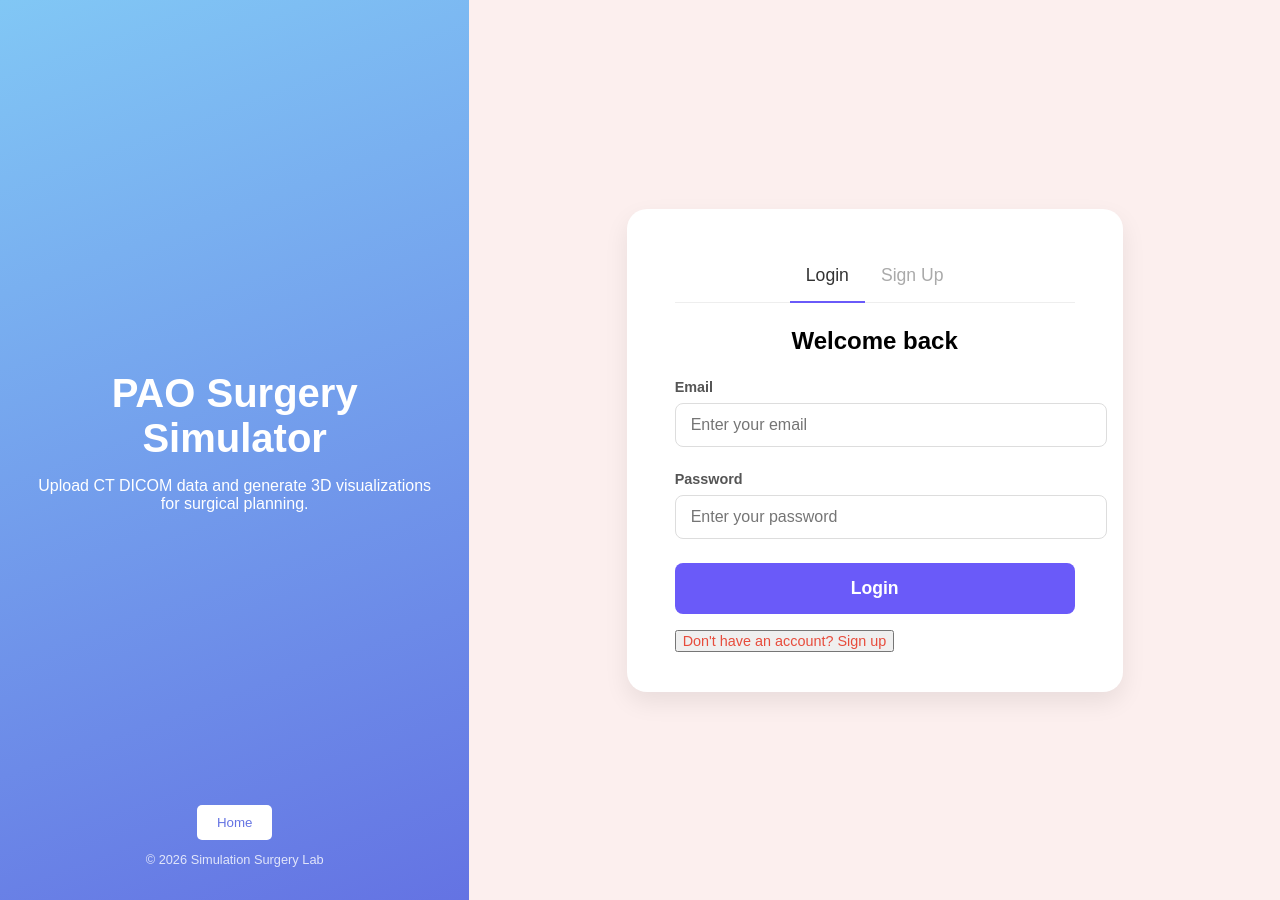
Scenario: resend failure shows controlled message
Step 1. Type "unverified@example.com" into the field with placeholder "Enter your email" → (891, 424), box [675,402,1107,446]
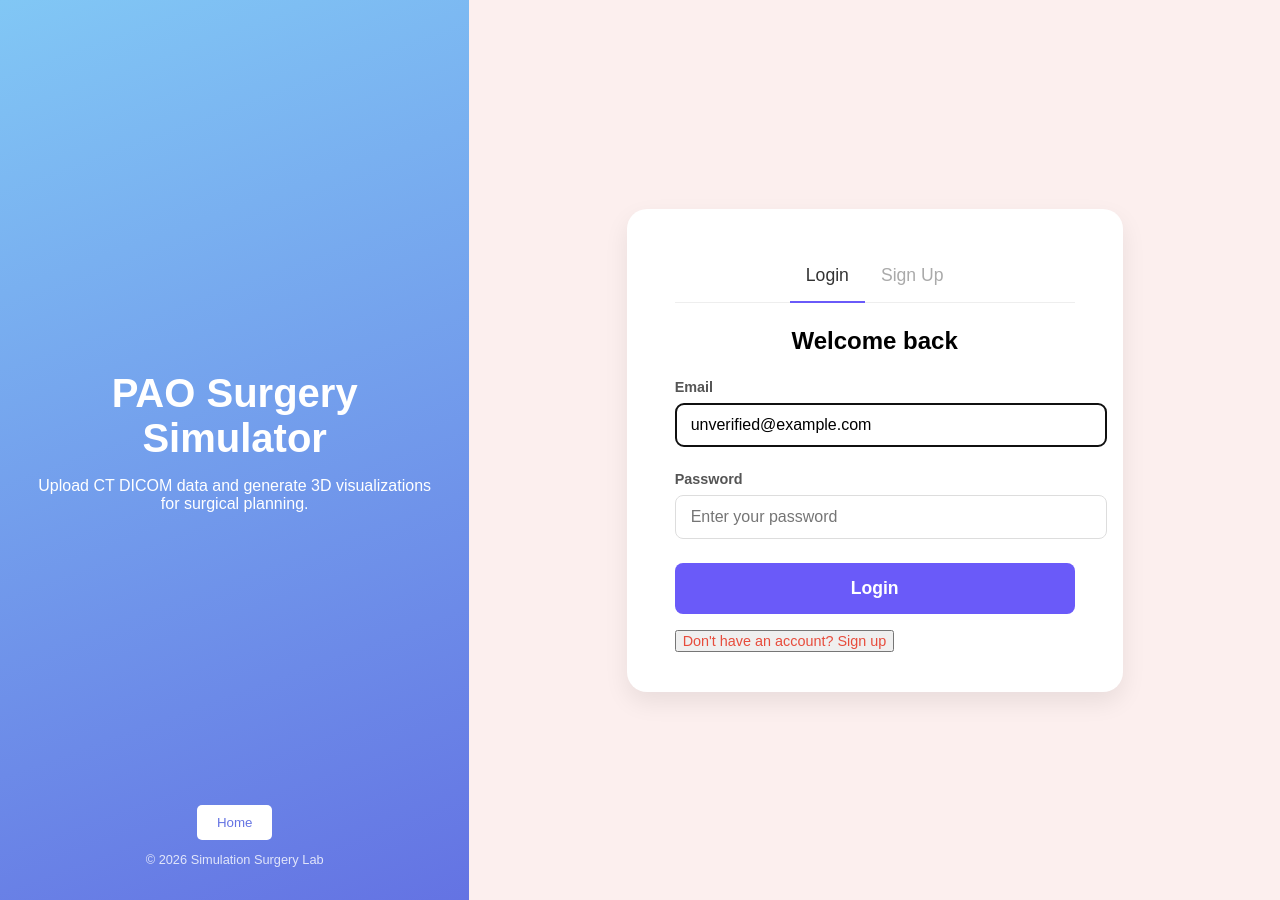
Step 2. Type "password123" into the password field with placeholder "Enter your password" → (891, 516), box [675,494,1107,538]
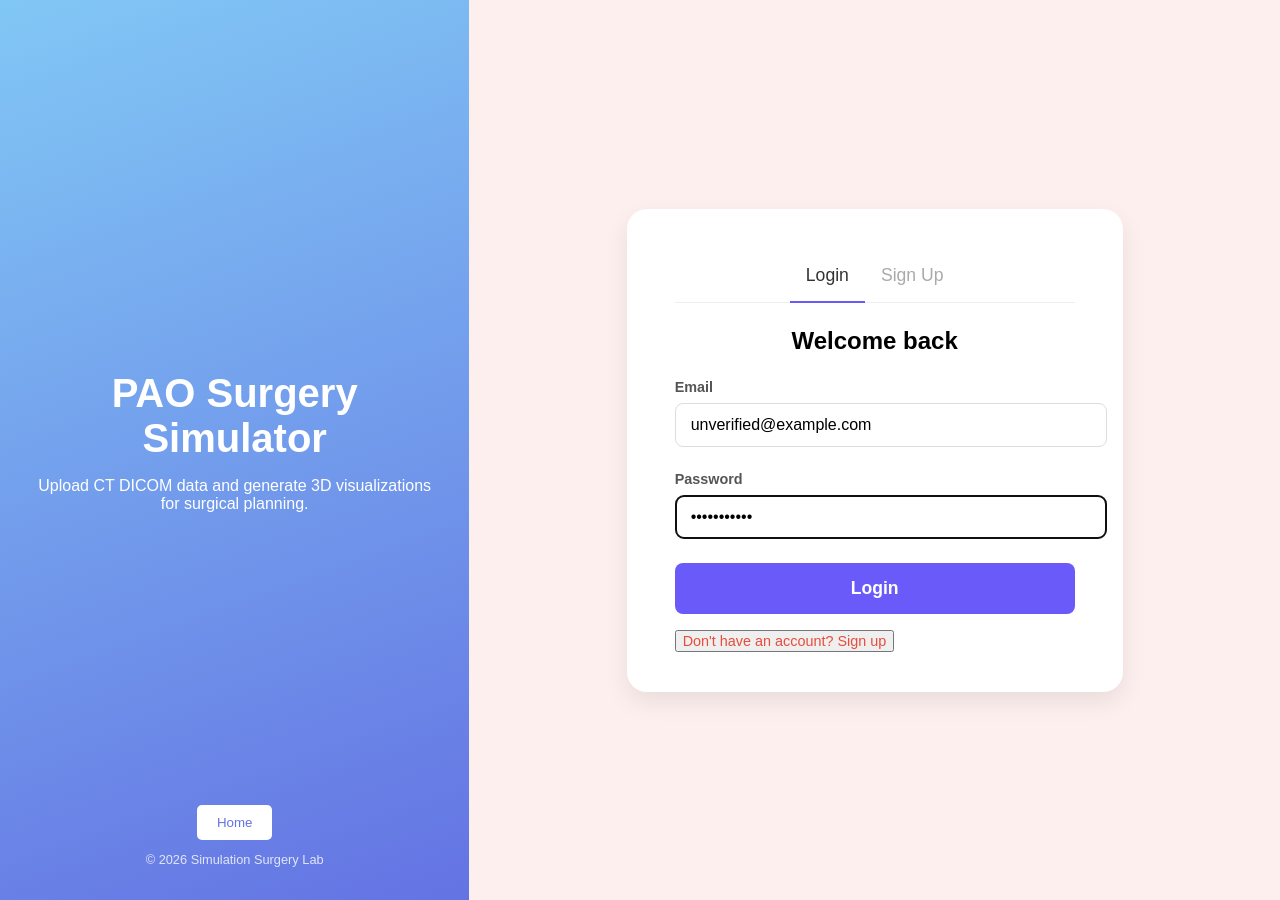
Step 3. Click the button with class "submit-btn" → (875, 588), box [675,562,1075,614]
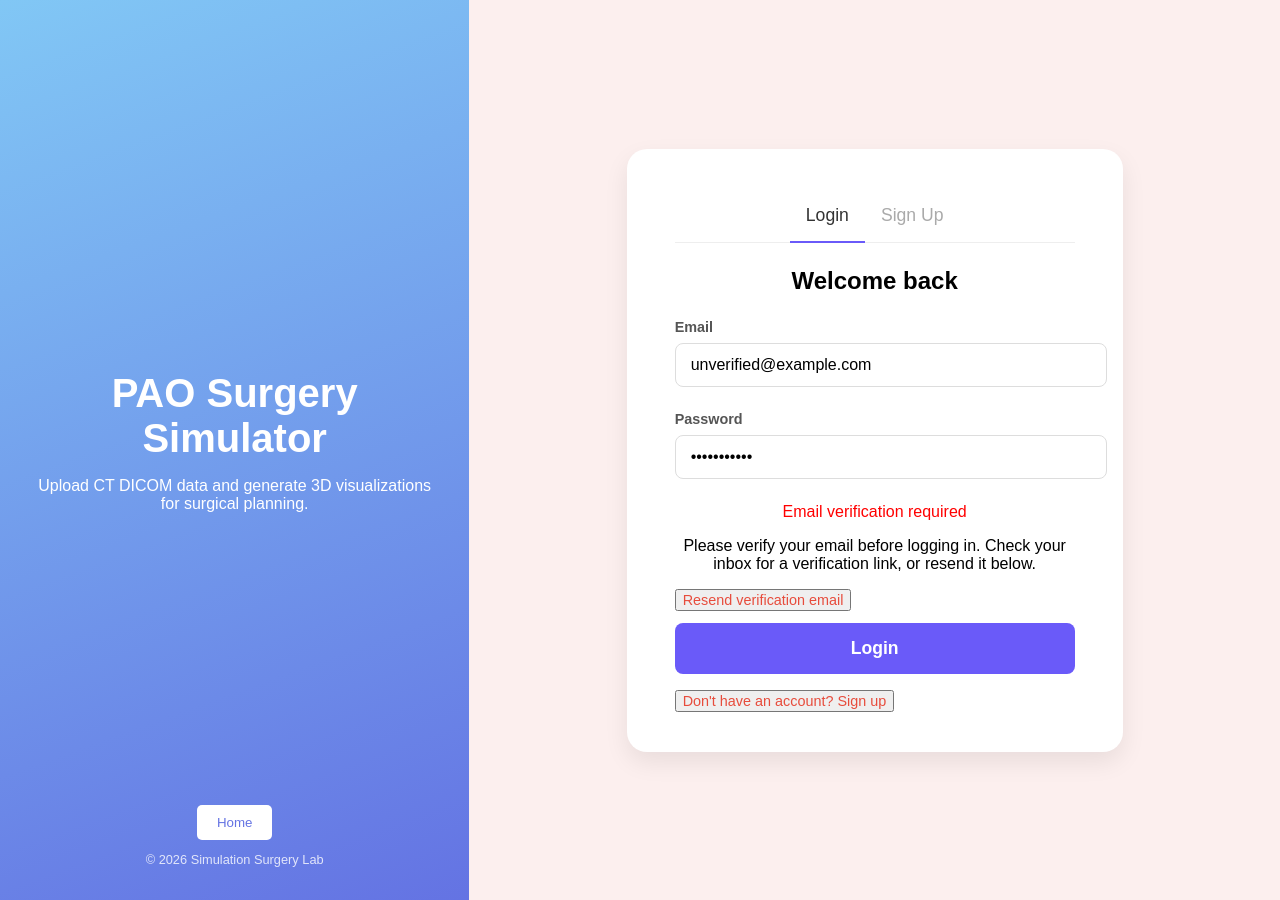
Step 4. Click the button "Resend verification email" → (763, 600), box [675,588,852,610]
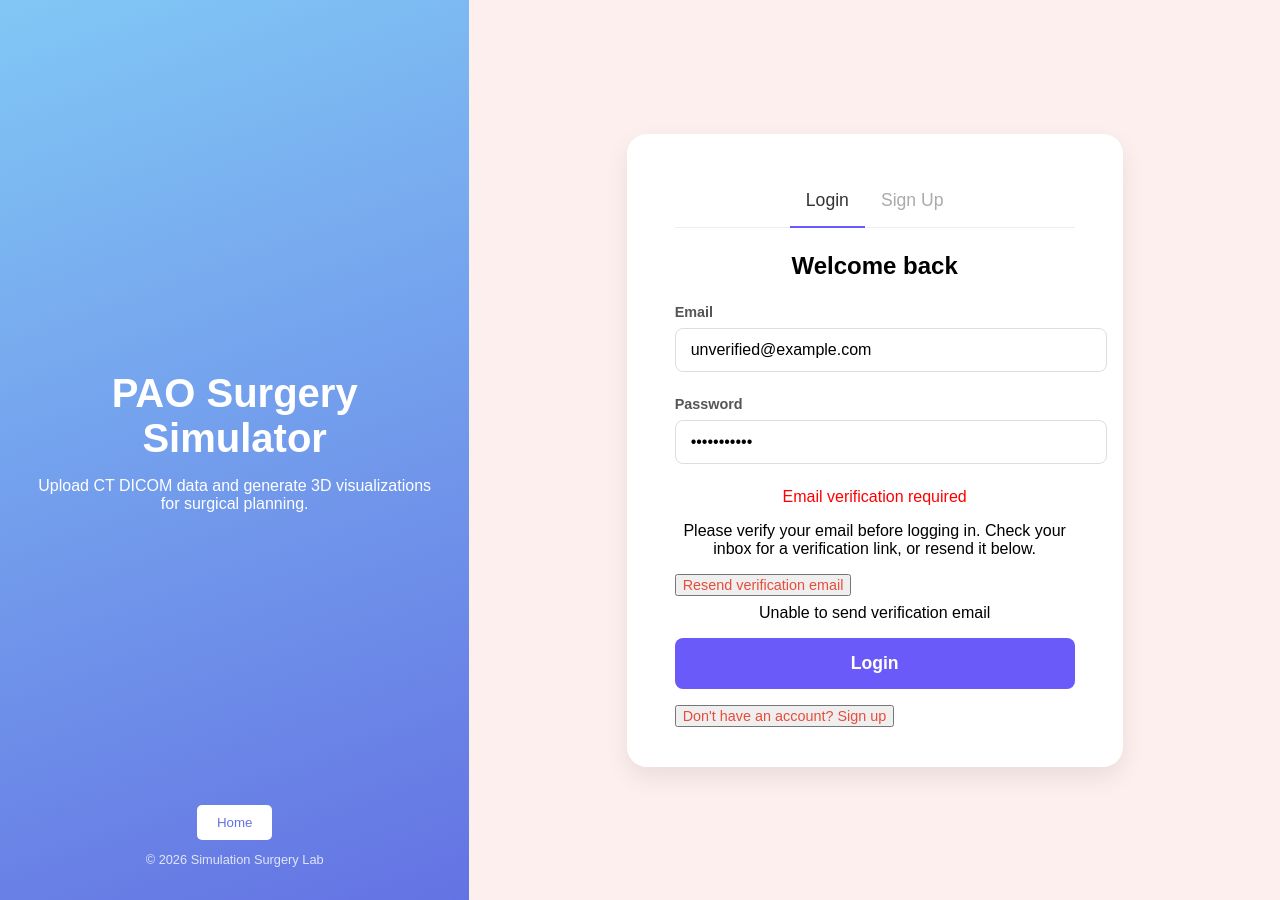
Now the text "Unable to send verification email" is shown, box [759,604,990,620]
